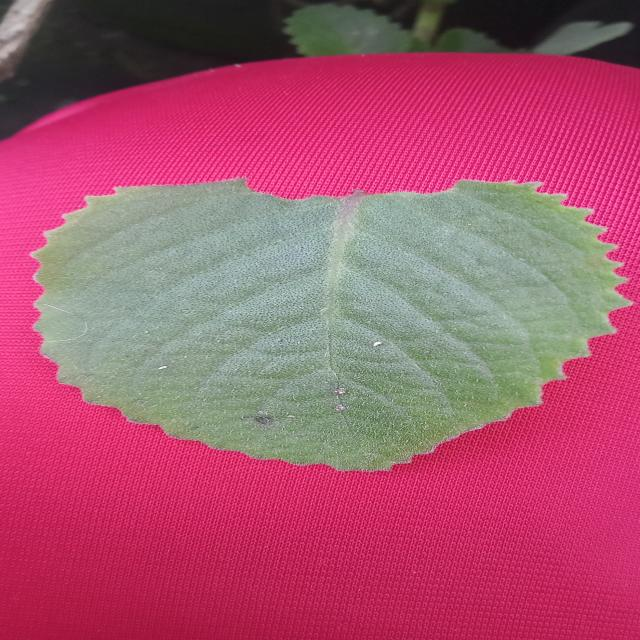Oregano: (25, 176, 640, 487)
